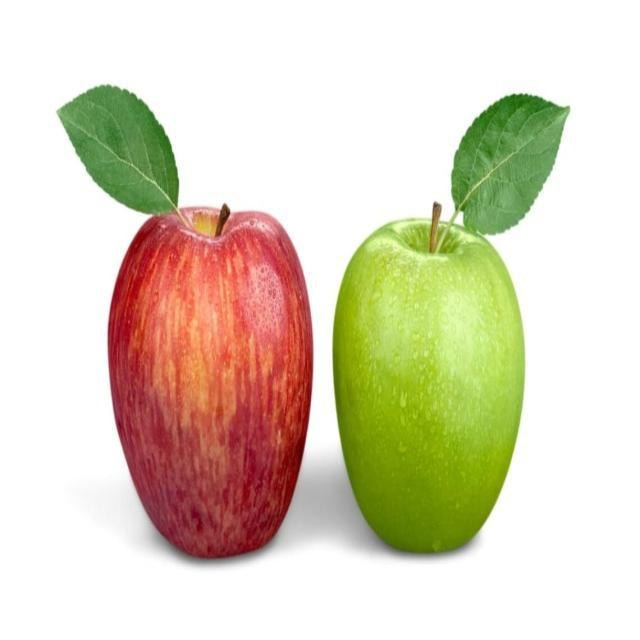Green Apple: (332, 207, 527, 555)
Red Apple: (107, 203, 314, 560)
